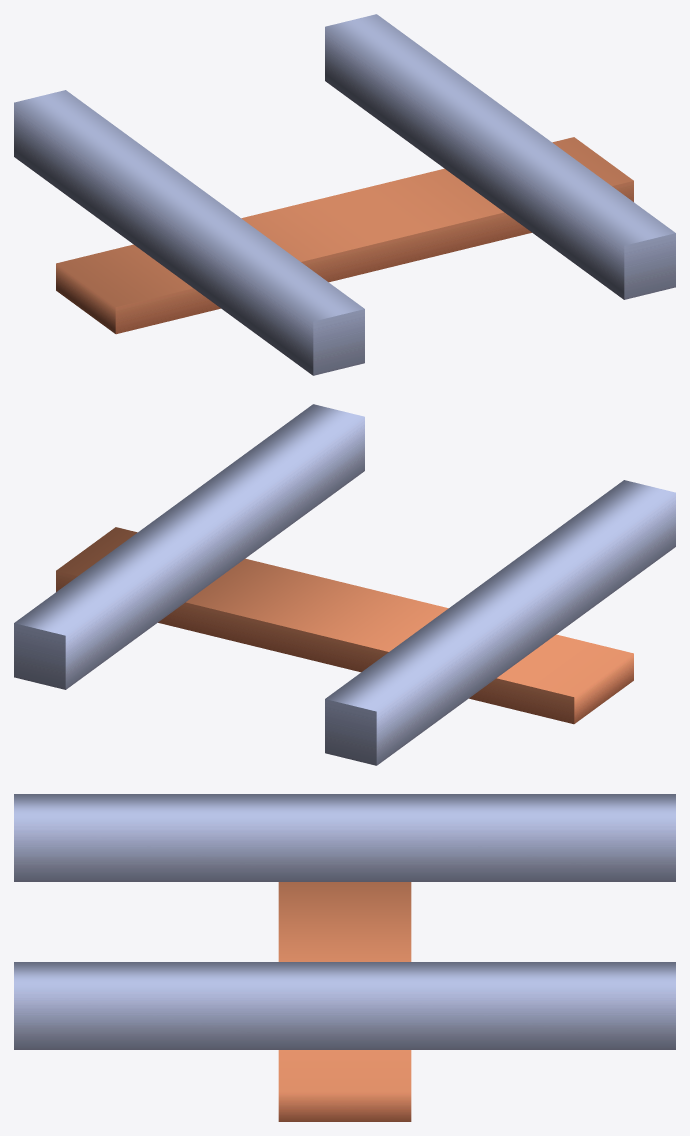
File: kenney-train-track-single.glb
3 renders of one model, top to bottom at view 1: azimuth 30°, elevation 25°; view 2: azimuth 150°, elevation 25°; view 3: azimuth 270°, elevation 25°, orthographic. The views are drawn at different scales.
Visible parts, largest first — view 1: track-single; view 2: track-single; view 3: track-single.
Boxes of the visible parts, x1,y1,x2,y2 form: track-single: (14,14,675,375); track-single: (14,404,675,765); track-single: (14,794,675,1121).
Size of the model in its own units: 1 by 0.15 by 1.
Materials: 1 (1 with a texture image).
